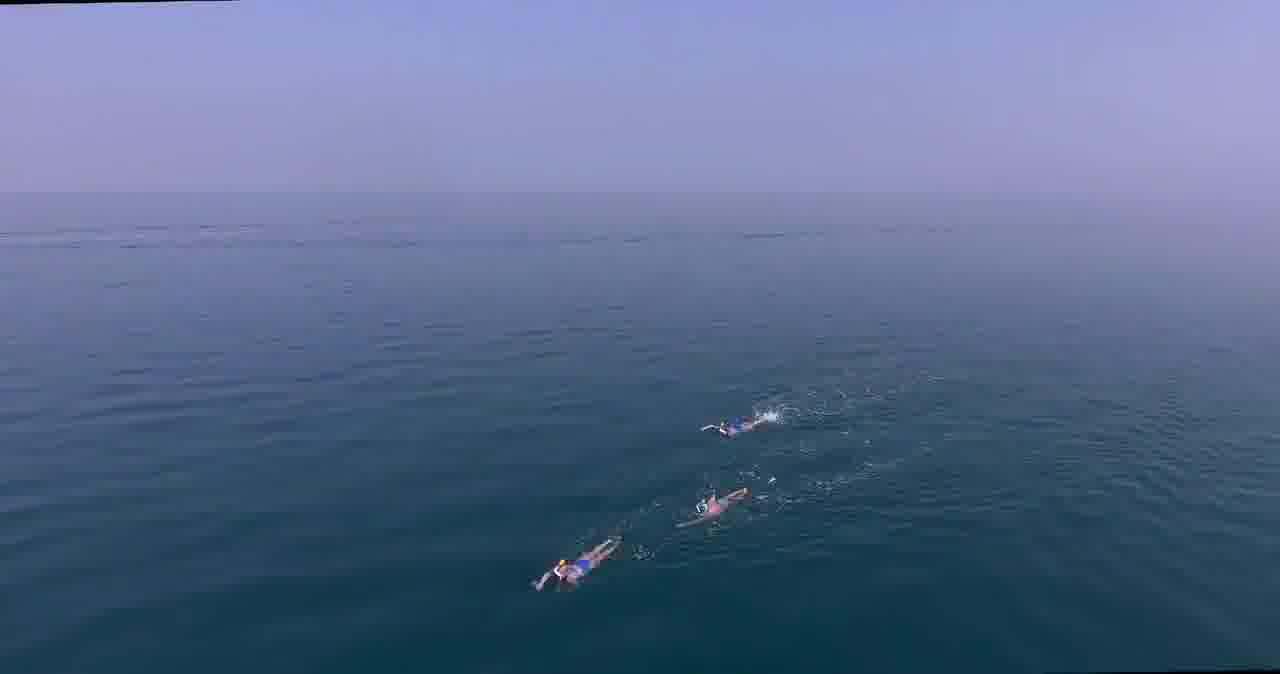swimmer: (537, 534, 622, 592), (678, 485, 749, 534), (694, 414, 761, 444)
